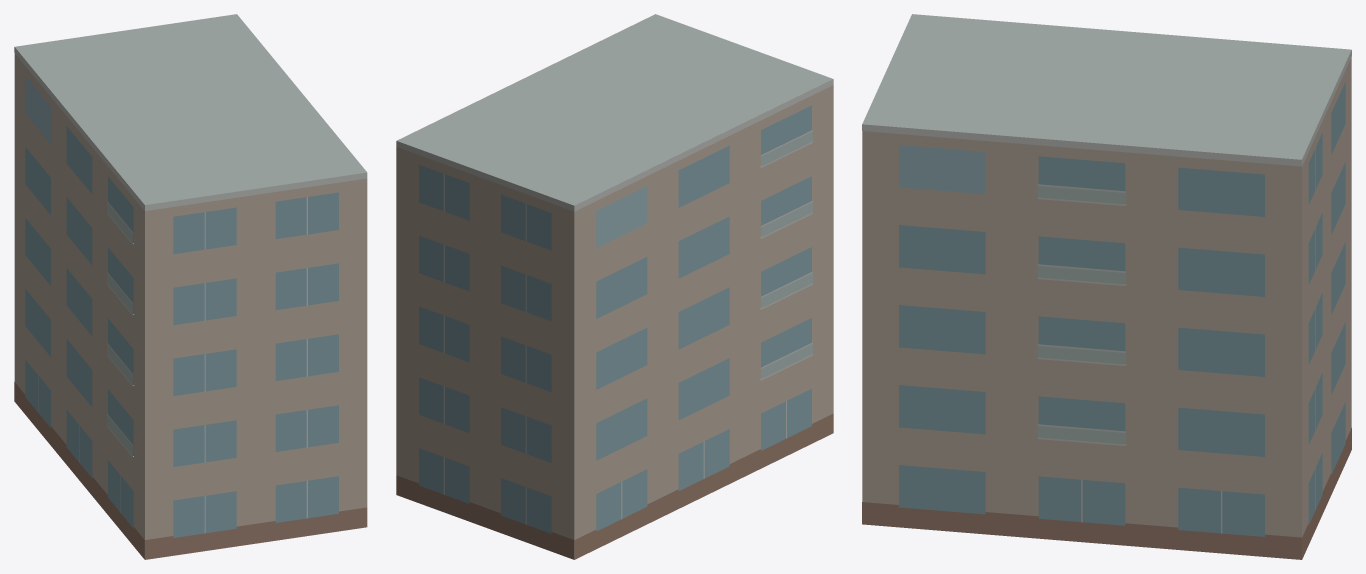
File: survey-upis-32707005.glb
3 views of the same model, side by side, from view 1: azimuth 30°, elevation 25°; view 2: azimuth 150°, elevation 25°; view 3: azimuth 270°, elevation 25° (orthographic). The views are drawn at different scales.
Parts seen in each view (by area): view 1: survey-upis-32707005.tmp; view 2: survey-upis-32707005.tmp; view 3: survey-upis-32707005.tmp.
Part boxes in pixels (left/top/right/bottom): survey-upis-32707005.tmp: left=14, top=14, right=367, bottom=559; survey-upis-32707005.tmp: left=396, top=14, right=833, bottom=559; survey-upis-32707005.tmp: left=862, top=14, right=1351, bottom=559.
Bounding box in the file's own units: 11.34 × 14.5 × 16.1.
